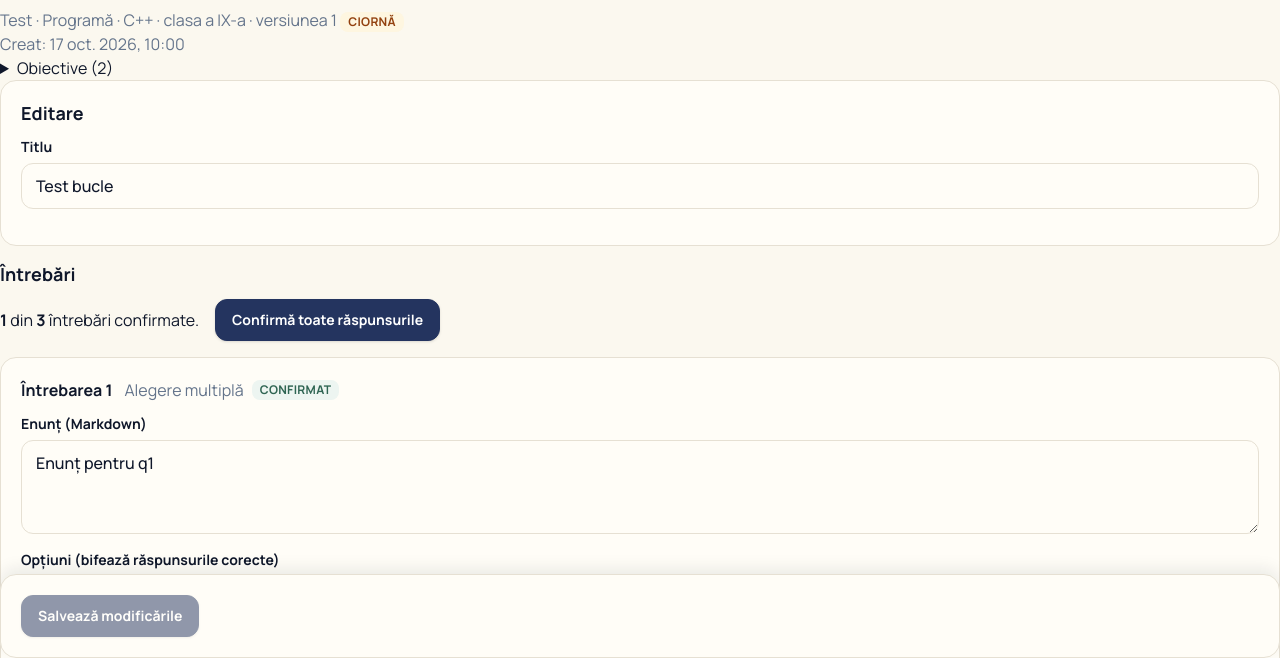
publish gating › "Confirmă toate" confirms every pending question at once and enables Publish
The image size is (1280, 658).
Click the button "Confirmă toate răspunsurile" at (328, 320), box [215,299,440,341]
(page scrolled)
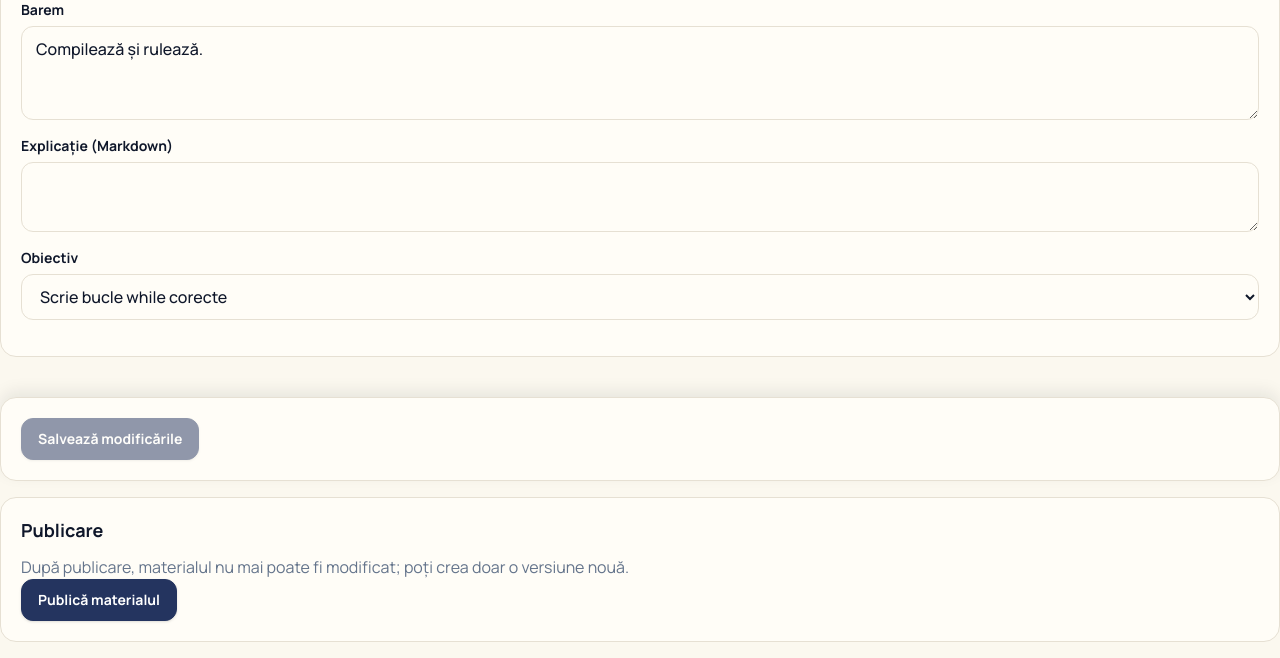
Now the button "Publică materialul" is enabled, box [21,579,177,621]
